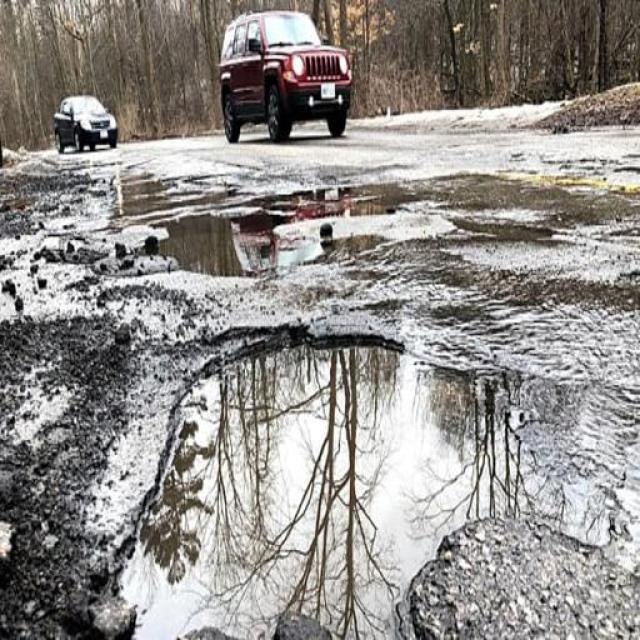puddle: (173, 348, 445, 618), (293, 183, 587, 222), (171, 182, 259, 300), (116, 171, 204, 258)
